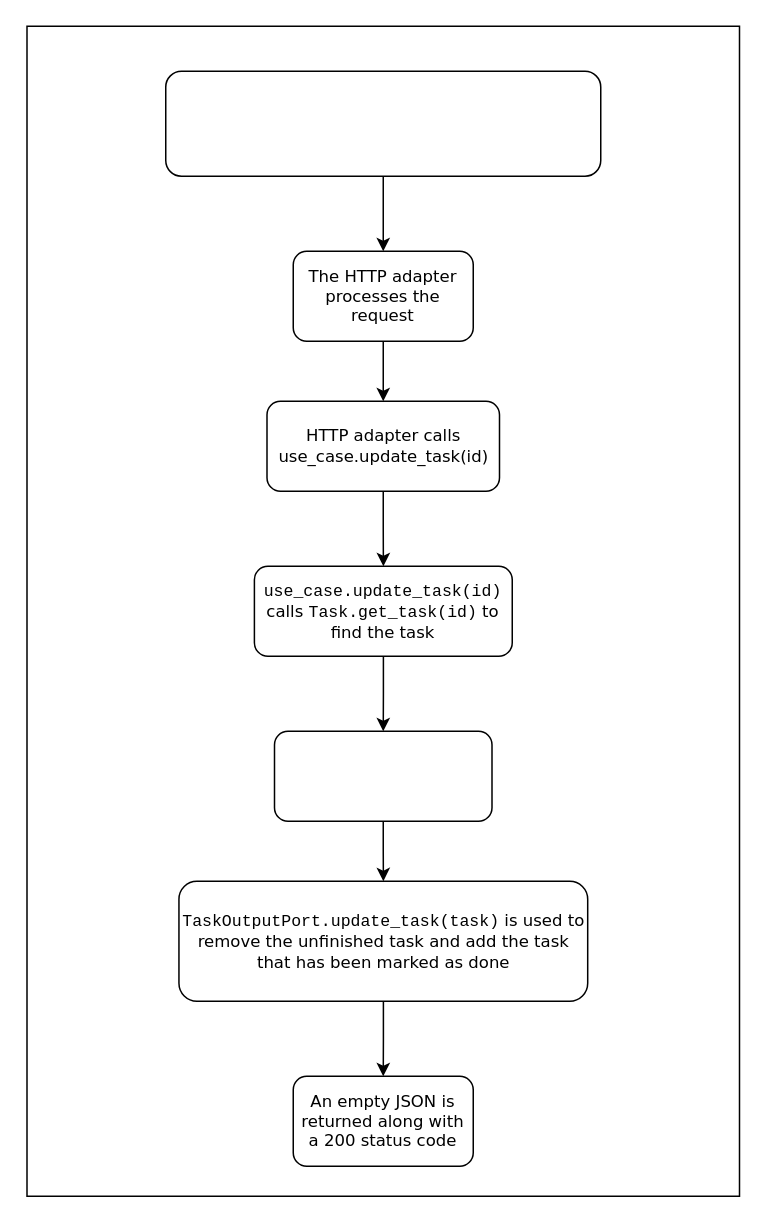
Some shapes in this 765 by 1223 pixel diagram are drawn without their labels. The shapes that lost their labels are listed below. From the top down, each one's centre as x and y in pixels, then its label:
At point (382, 123): "Sending HTTP PUT request via console to http://localhost:5000/tasks/<id>/done".
At point (382, 775): "The task is marked as done using Task.mark_done()".
